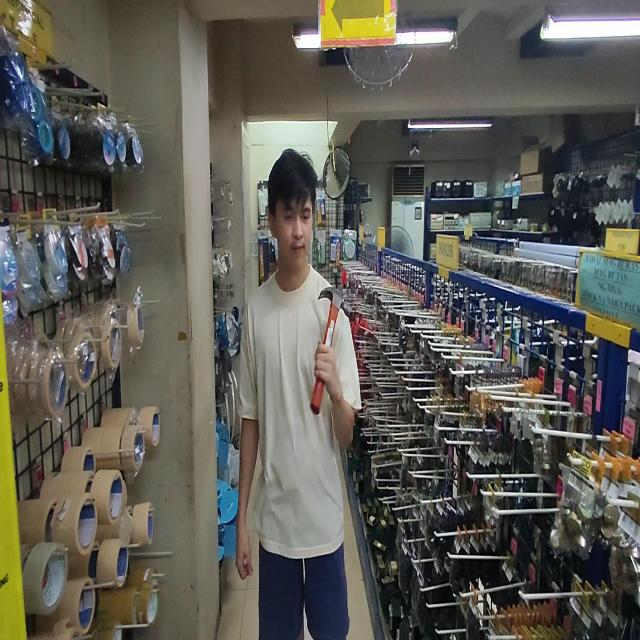hammer: (310, 287, 352, 414)
